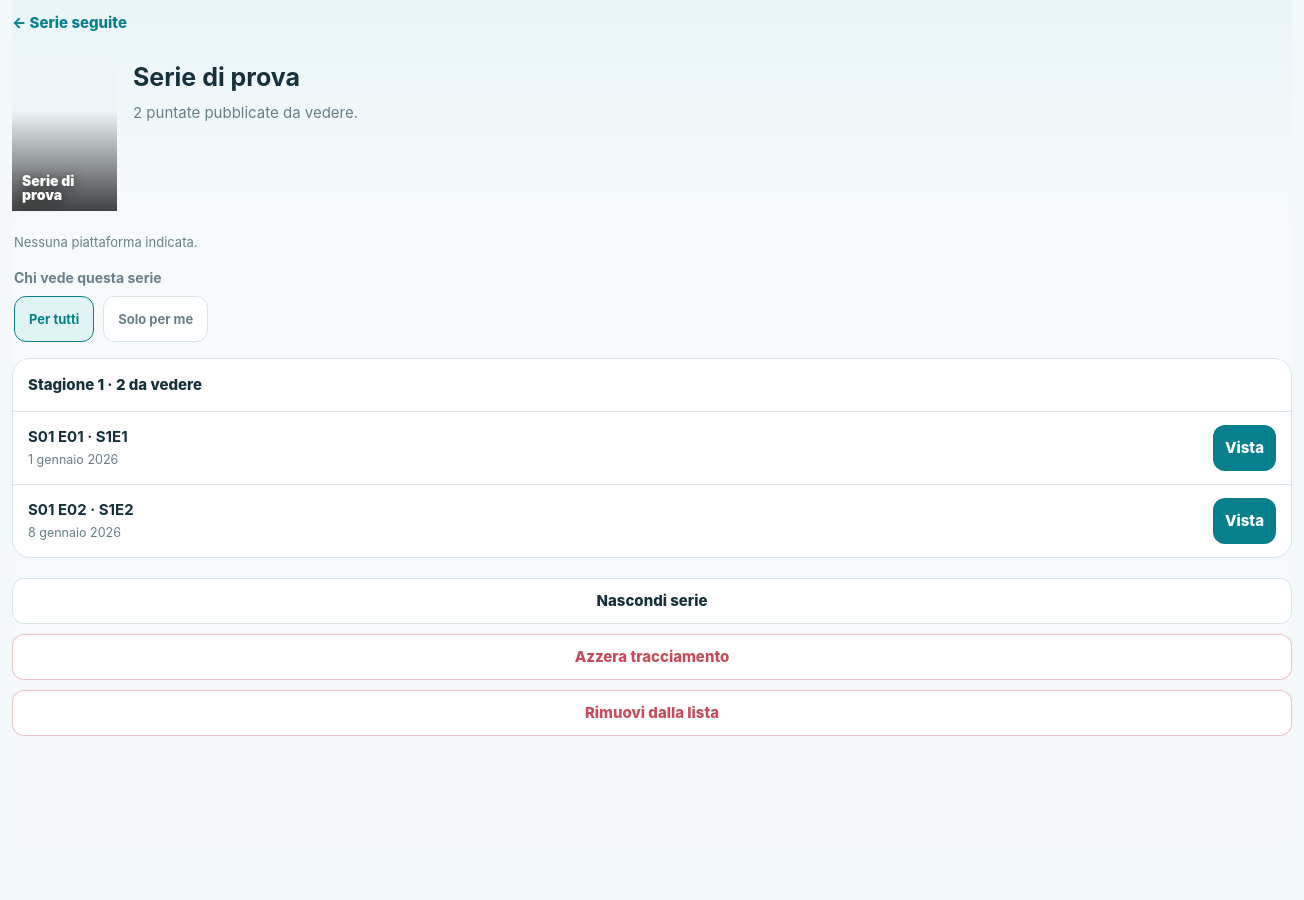
Test case: ShowDetailView — comando di nascondere › il comando si inverte fra i due stati e chiama il composable col bersaglio giusto
Click the button with class "listing". click: click(652, 601)
box: x1=12 y1=578 x2=1292 y2=624
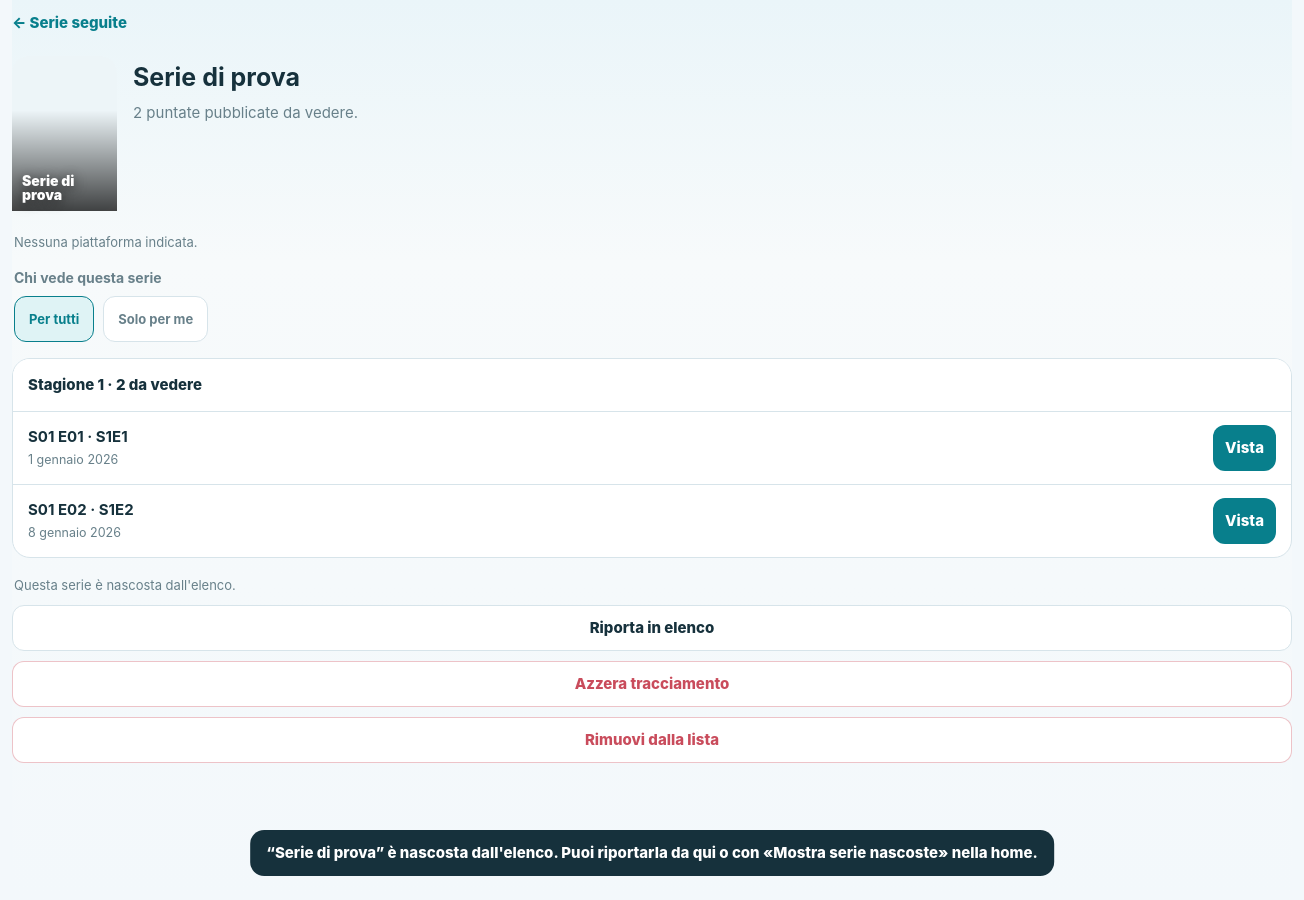
Result: the button with class "listing" reads "Riporta in elenco"
Click the button with class "listing". click: click(652, 628)
box: x1=12 y1=605 x2=1292 y2=651
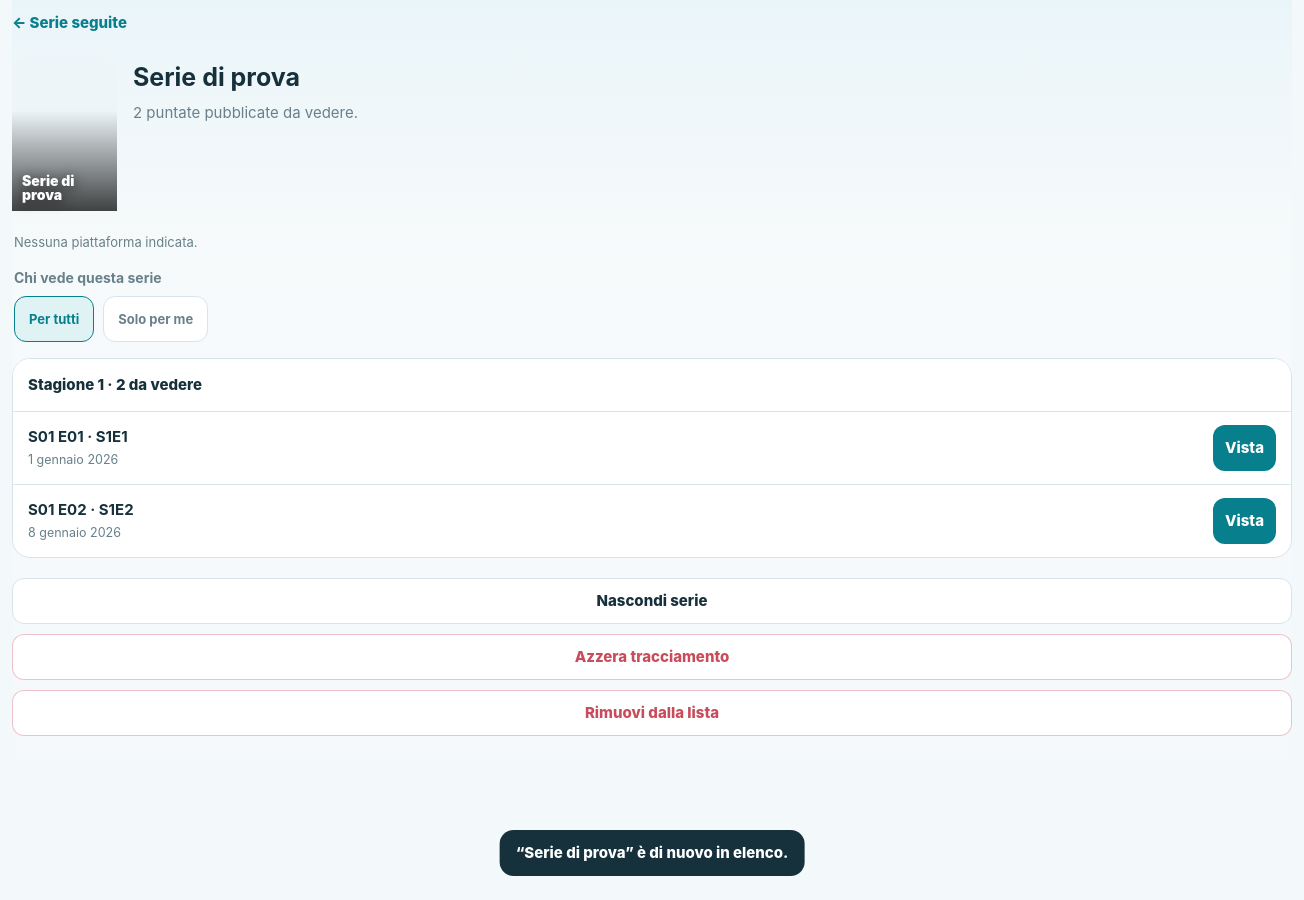
Result: the button with class "listing" reads "Nascondi serie" at x1=12 y1=578 x2=1292 y2=624
